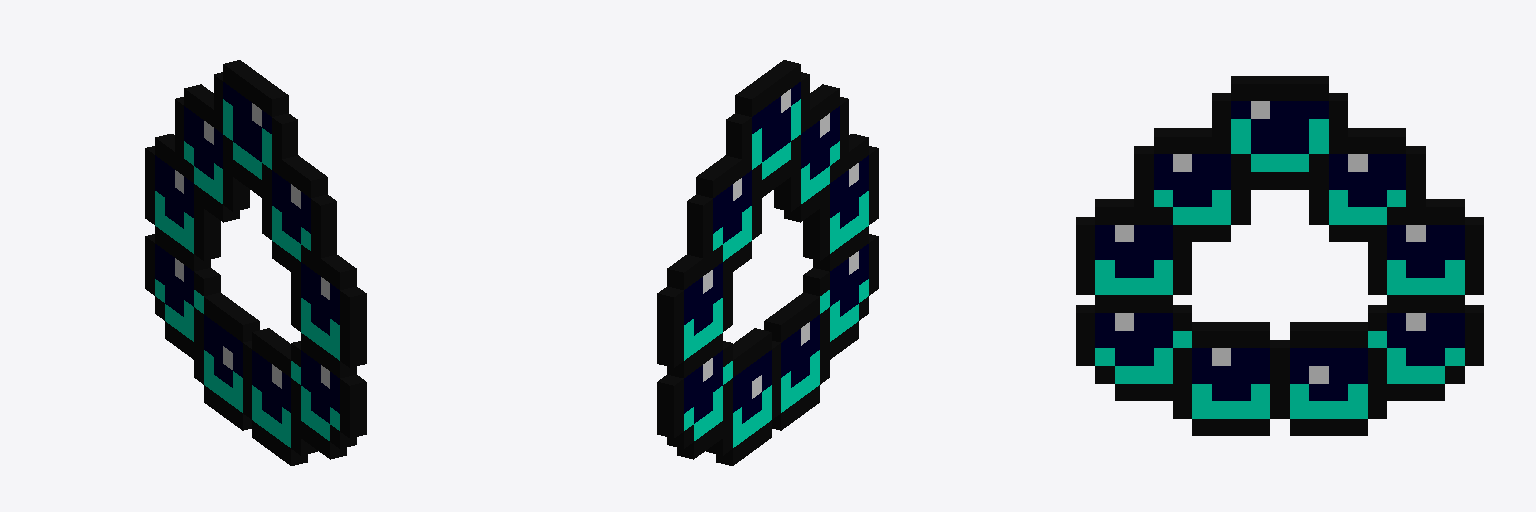
The picture shows the model from 3 angles: view 1: azimuth 30°, elevation 25°; view 2: azimuth 150°, elevation 25°; view 3: azimuth 270°, elevation 25°; orthographic projection.
Visible parts, largest first — view 1: object 1; view 2: object 1; view 3: object 1.
Part boxes in pixels (bbox=[...]): object 1: bbox=[145, 60, 366, 465]; object 1: bbox=[657, 60, 878, 465]; object 1: bbox=[1076, 76, 1483, 435].
Size of the model in its own units: 0.1 by 2 by 2.1.
1 materials, 1 textured.